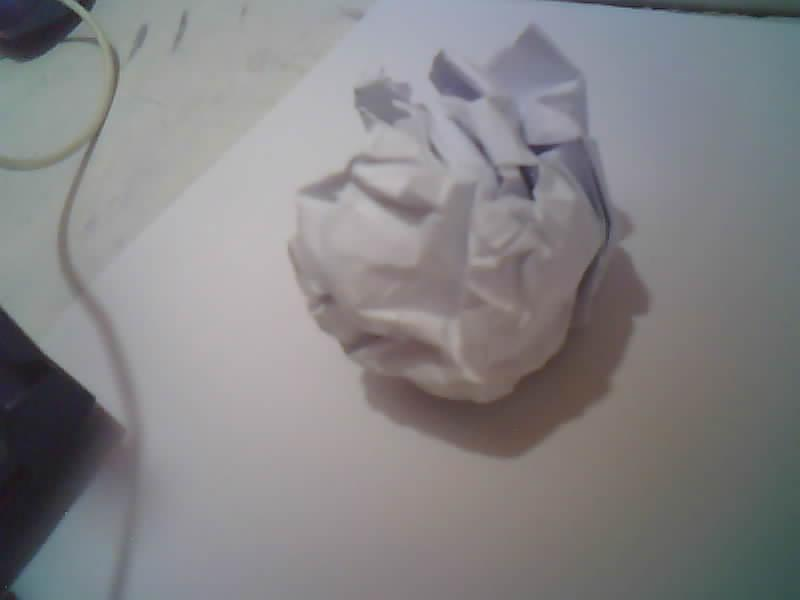biodegradable: (288, 25, 614, 402)
